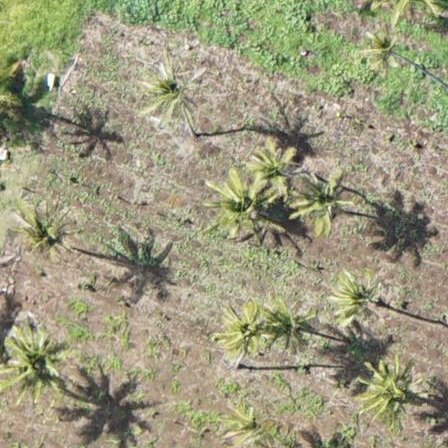palm_tree: (353, 357, 422, 431), (1, 319, 64, 397), (289, 170, 352, 235), (214, 295, 276, 361), (139, 61, 203, 123), (13, 203, 74, 265), (209, 172, 265, 234), (249, 142, 301, 201), (327, 272, 383, 325)
